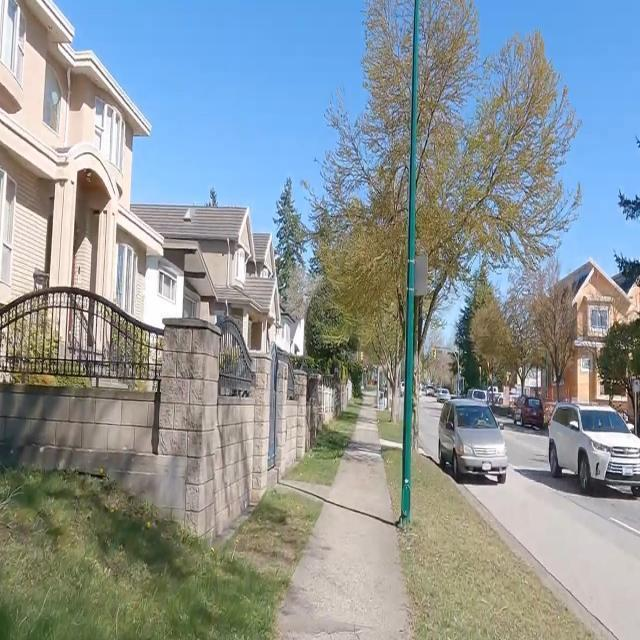Automobile: (548, 402, 639, 494), (437, 398, 508, 481), (520, 395, 542, 428), (468, 391, 487, 401), (438, 389, 450, 402)
Road: (453, 428, 639, 639), (422, 402, 439, 462)
Sidewalk: (281, 408, 408, 639)
